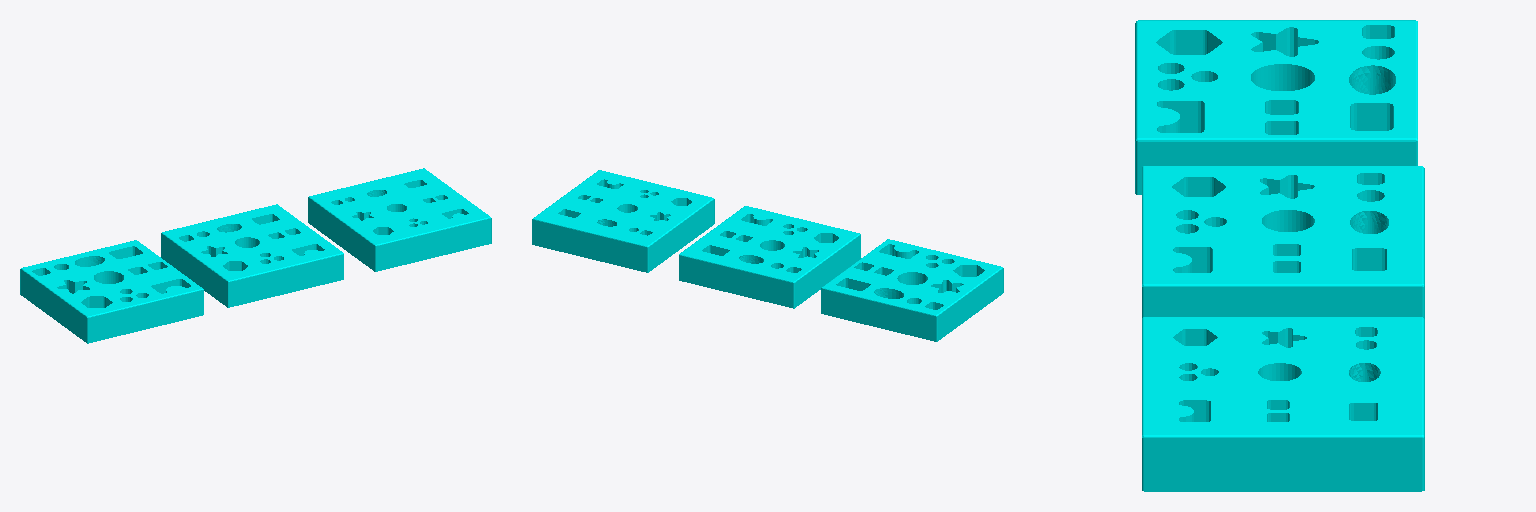
robot.urdf — fmb_assembly_board:
<?xml version="1.0"?>
<robot name="fmb_assembly_board">
    <link name="fmb_assembly_board">
        <visual>
            <geometry>
                <mesh filename="../mesh/factory_insertion/fmb_assembly_board.obj" scale="0.001 0.001 0.001"/>
            </geometry>
            <material name="Cyan">
              <color rgba="0 1.0 1.0 1.0"/>
            </material>
        </visual>
        <collision>
            <geometry>
                <mesh filename="../mesh/factory_insertion/fmb_assembly_board.obj" scale="0.001 0.001 0.001"/>
            </geometry>
            <sdf resolution="512"/>
        </collision>
    </link>
</robot>

--- Facts derived from the render (not from the file) ---
3 views of the same robot in one strip: view 1: azimuth 30°, elevation 25°; view 2: azimuth 150°, elevation 25°; view 3: azimuth 270°, elevation 25° (orthographic).
Model fmb_assembly_board with 1 links and 0 joints (none), rooted at fmb_assembly_board, posed all joints at 0.
Links seen in each view (by area): view 1: fmb_assembly_board; view 2: fmb_assembly_board; view 3: fmb_assembly_board.
Boxes of the visible links, <box> form: fmb_assembly_board: <box>20,168,491,343</box>; fmb_assembly_board: <box>532,170,1003,341</box>; fmb_assembly_board: <box>1135,20,1424,491</box>.
Bounding box of the posed robot: 0.8 × 0.235 × 0.05 m (x, y, z).
Meshes: 1 distinct files referenced, 1 mesh visuals loaded (1 OBJ).
